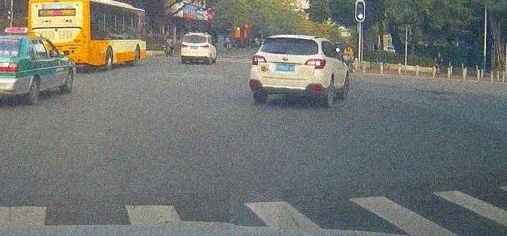L_light: (251, 55, 266, 65), (181, 44, 188, 47)
R_light: (304, 58, 326, 69), (201, 44, 209, 48)
T_light: (286, 38, 296, 41), (192, 35, 198, 37)
day-no: (180, 33, 210, 64)
day-right: (250, 35, 326, 107)
